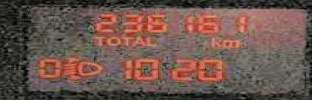0: (196, 57, 223, 81), (134, 57, 158, 80), (37, 57, 60, 78)
1: (236, 13, 247, 34), (122, 58, 132, 79), (183, 13, 193, 34)
2: (171, 55, 195, 81), (95, 11, 116, 33)
3: (121, 12, 144, 33)
6: (145, 12, 168, 33), (196, 14, 219, 33)
X: (105, 35, 120, 47), (222, 38, 242, 47), (145, 35, 158, 46), (120, 35, 132, 46), (92, 35, 103, 46), (132, 36, 143, 46), (210, 36, 220, 46)
